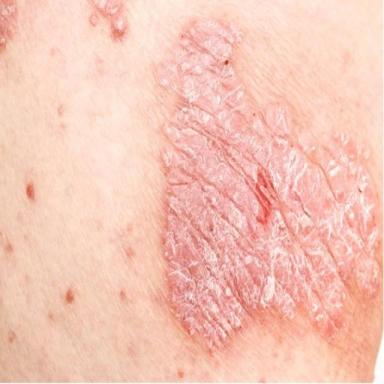Psoriasis: (149, 15, 383, 354), (87, 0, 130, 40), (0, 0, 18, 52)
